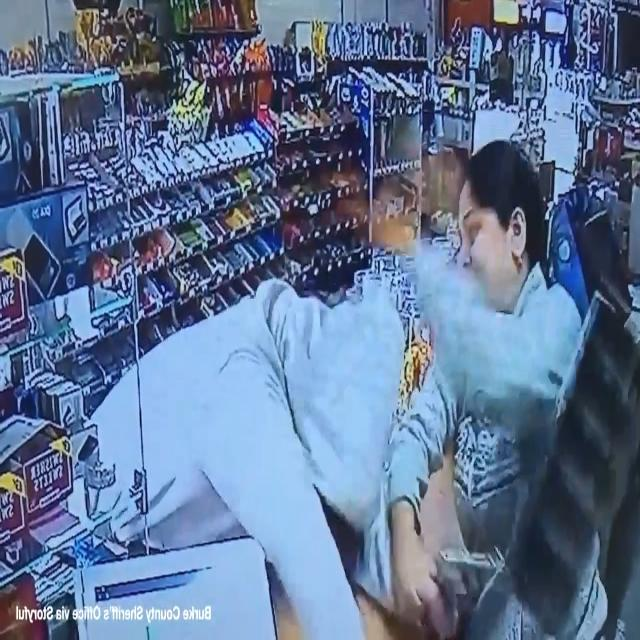fight: (191, 127, 601, 618)
